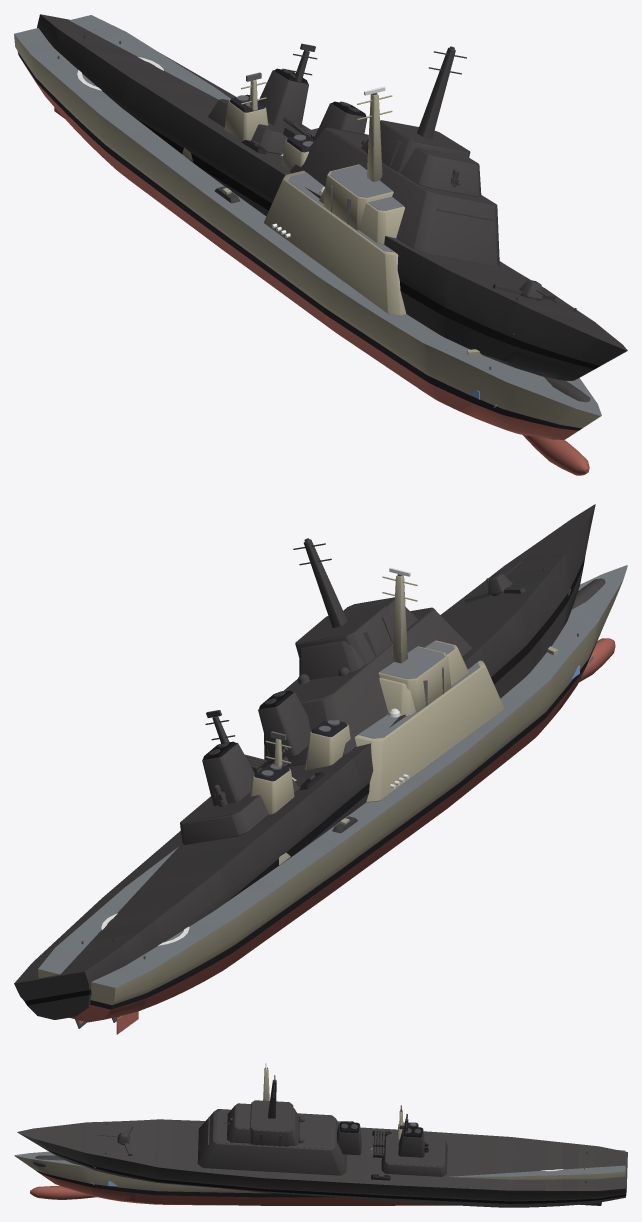
The model's file is destroyer__kongo_class.glb.
3 renders of one model, top to bottom at view 1: azimuth 30°, elevation 25°; view 2: azimuth 150°, elevation 25°; view 3: azimuth 270°, elevation 25°, orthographic. The views are drawn at different scales.
Parts seen in each view (by area): view 1: Hull_Mesh, Wreck; view 2: Wreck, Hull_Mesh; view 3: Wreck, Hull_Mesh.
Boxes of the visible parts, <box> form: Hull_Mesh: <box>14,15,601,475</box>; Wreck: <box>37,14,627,402</box>; Wreck: <box>14,504,605,1028</box>; Hull_Mesh: <box>38,565,627,1034</box>; Wreck: <box>17,1075,627,1207</box>; Hull_Mesh: <box>14,1068,625,1205</box>.
Size of what is drawn, in the model's own units: 27.98 by 43.6 by 168.
